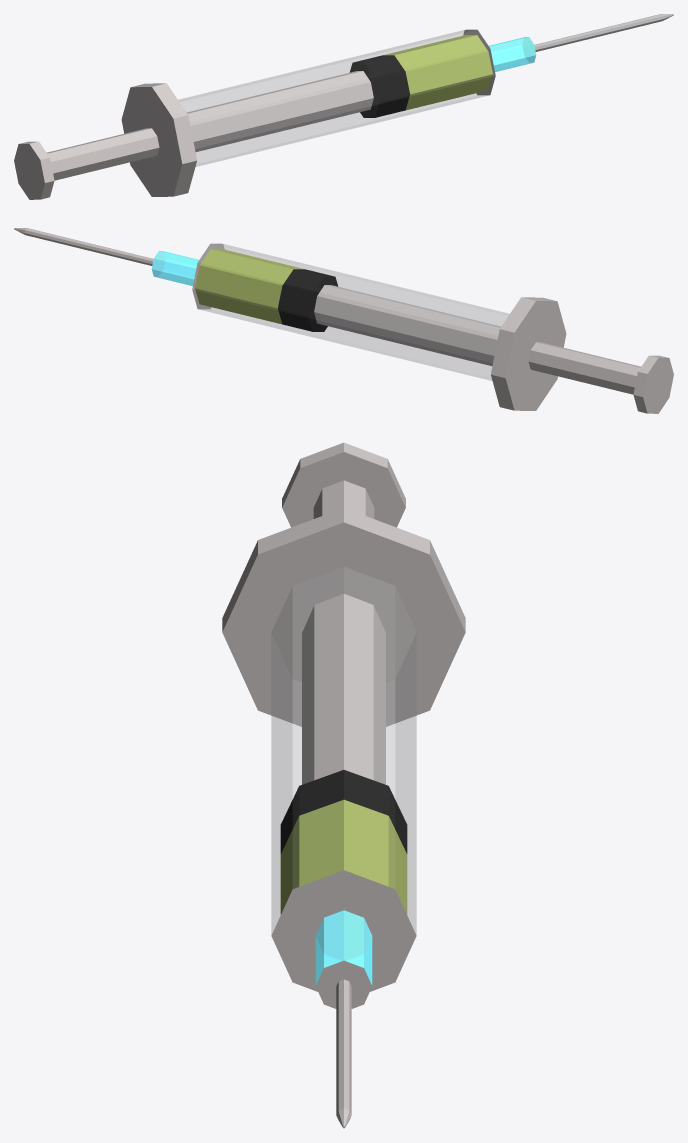
The model's file is Syringe2.fbx.
The picture shows the model from 3 angles, top to bottom: view 1: azimuth 30°, elevation 25°; view 2: azimuth 150°, elevation 25°; view 3: azimuth 270°, elevation 25°; orthographic projection. The views are drawn at different scales.
Parts seen in each view (by area): view 1: Syringe; view 2: Syringe; view 3: Syringe.
Boxes of the visible parts, bbox=[...] form: Syringe: bbox=[14, 14, 673, 199]; Syringe: bbox=[14, 228, 673, 413]; Syringe: bbox=[222, 442, 465, 1128].
Size of the model in its own units: 449 by 73.44 by 73.44.
